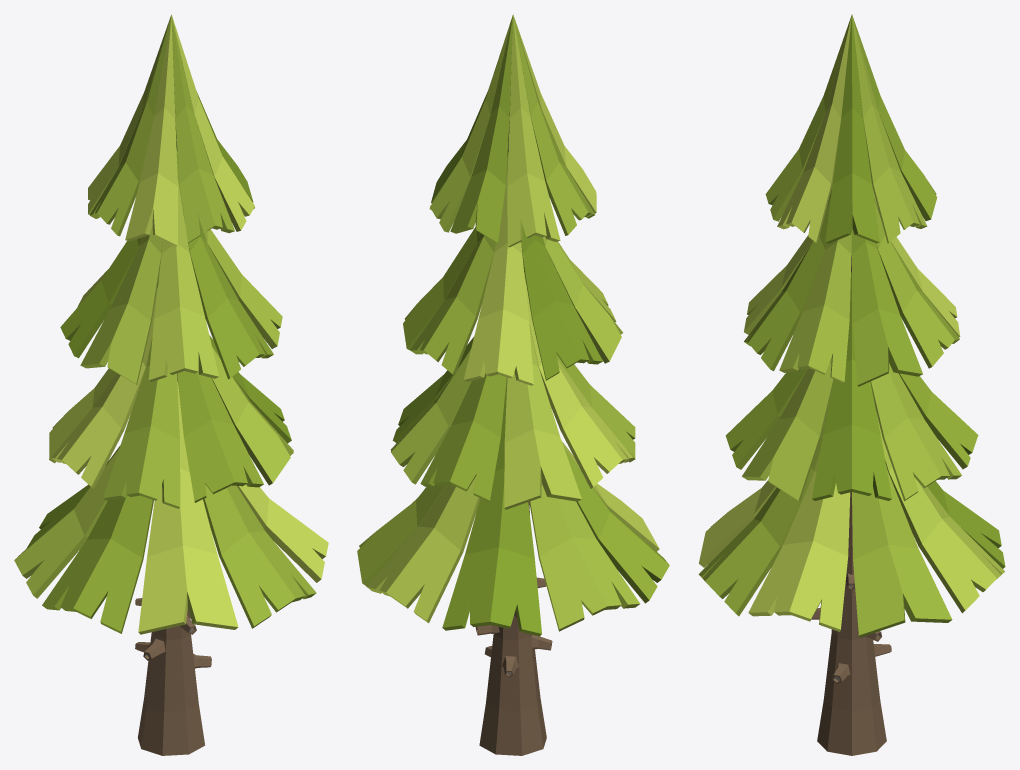
The model's file is NHP_Tree_LP_A1_5m_01.fbx.
3 views of the same model, side by side, from view 1: azimuth 30°, elevation 25°; view 2: azimuth 150°, elevation 25°; view 3: azimuth 270°, elevation 25° (orthographic).
Visible parts, largest first — view 1: NHP_Tree_LP_A1_5m_01_LOD0; view 2: NHP_Tree_LP_A1_5m_01_LOD0; view 3: NHP_Tree_LP_A1_5m_01_LOD0.
Boxes of the visible parts, x1,y1,x2,y2 form: NHP_Tree_LP_A1_5m_01_LOD0: (14, 14, 328, 755); NHP_Tree_LP_A1_5m_01_LOD0: (357, 14, 669, 755); NHP_Tree_LP_A1_5m_01_LOD0: (698, 14, 1005, 755).
Size of what is drawn, in the model's own units: 2.03 by 5.3 by 2.03.
